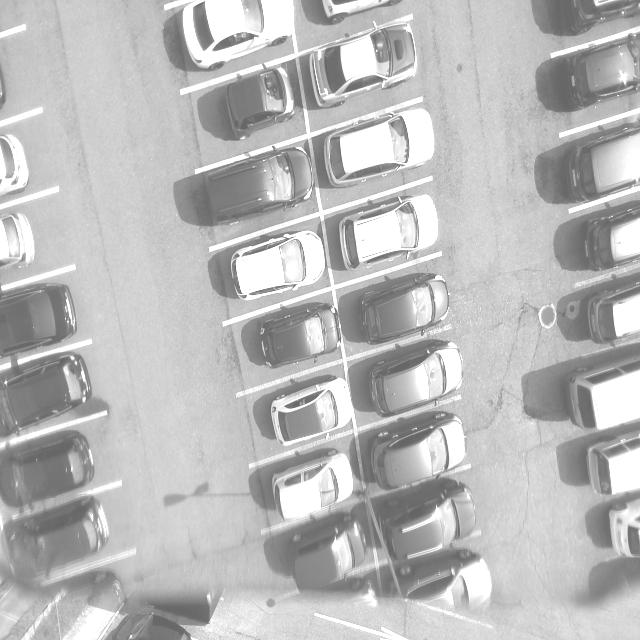car: (308, 19, 422, 107), (206, 140, 314, 230), (4, 499, 117, 582), (323, 107, 434, 187), (178, 1, 300, 72), (339, 189, 442, 273), (232, 227, 328, 309), (379, 485, 478, 561), (371, 416, 469, 491), (1, 430, 96, 507), (369, 342, 465, 417), (359, 273, 452, 346), (271, 372, 355, 450), (289, 517, 370, 596), (225, 62, 299, 145), (259, 301, 344, 372), (271, 451, 356, 520)
